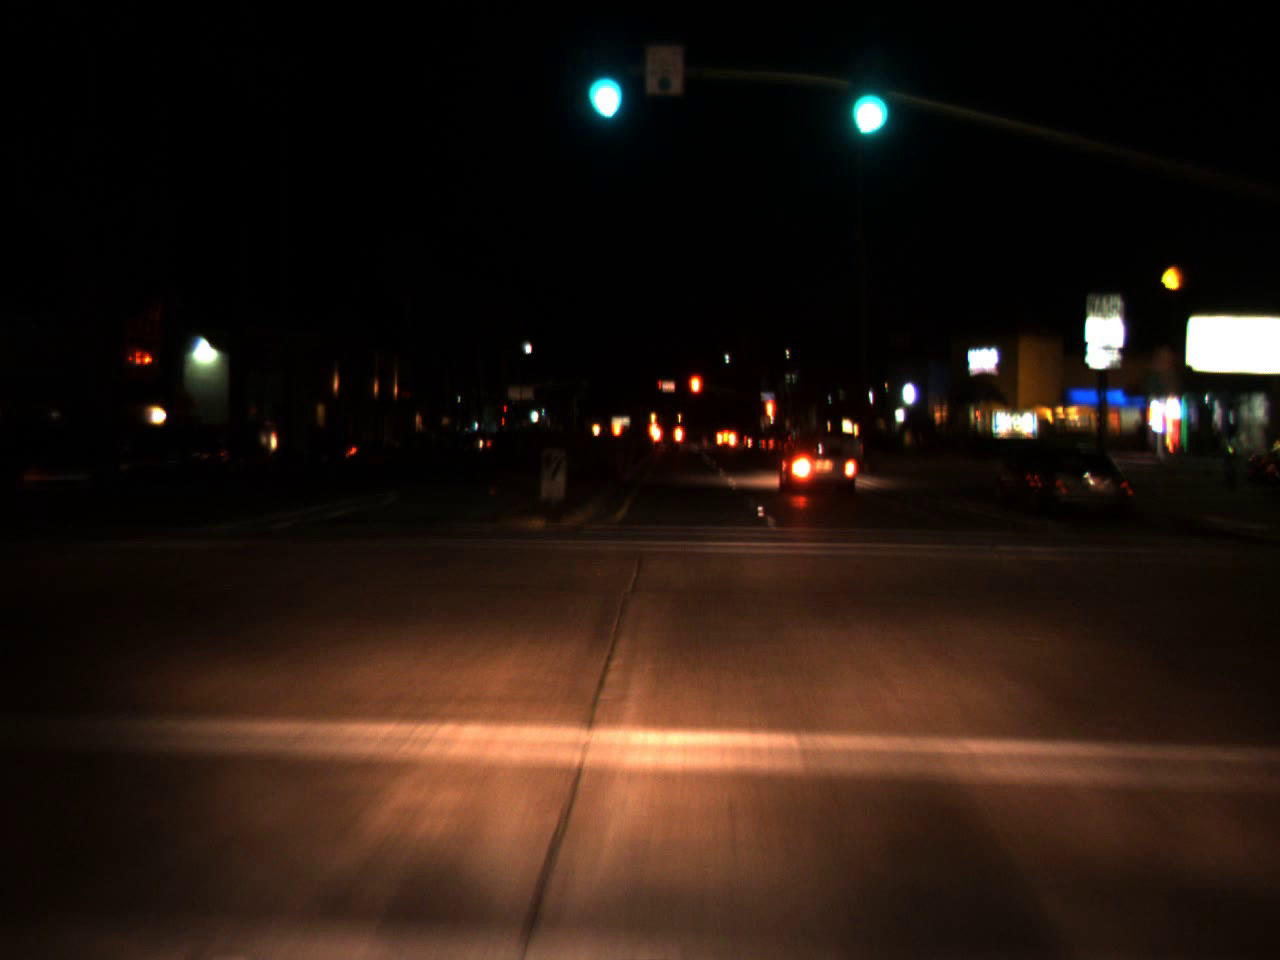go: (579, 44, 627, 128), (845, 62, 888, 143)
stop: (687, 372, 703, 415), (764, 396, 776, 439)
